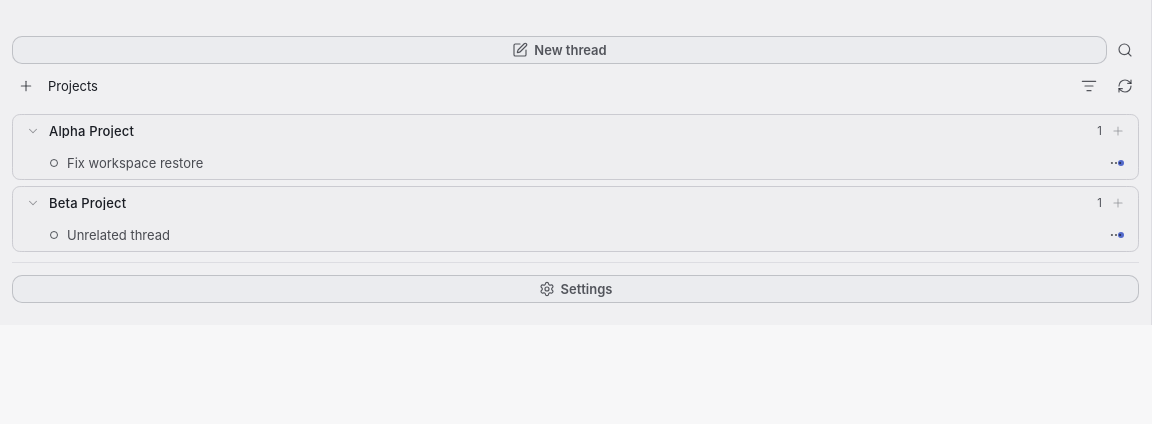
Test: Sidebar › keeps a project visible when its thread matches the search query
Click the button named "Toggle search".
click(1125, 50)  # box left=1111, top=36, right=1139, bottom=64
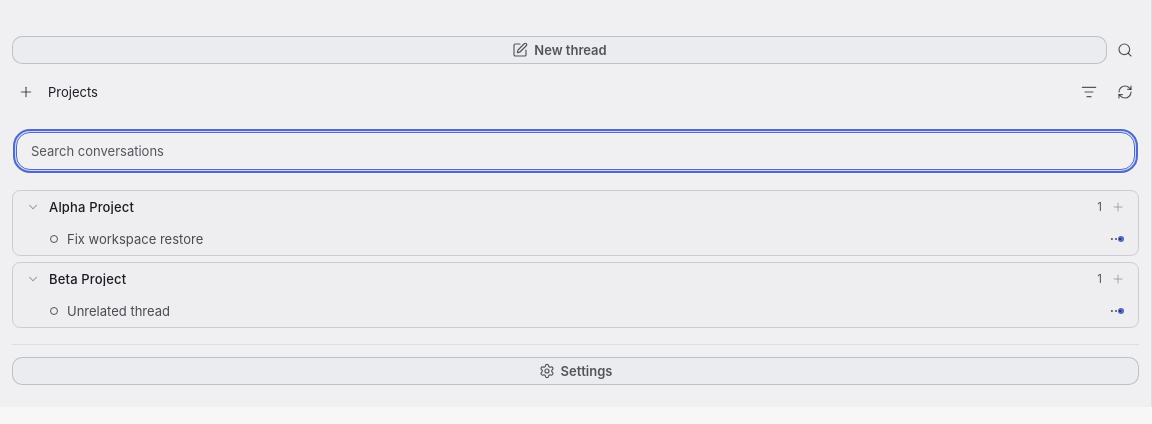
Type "restore" into the field labelled "Search conversations".
click(576, 151); type("restore")  # box left=16, top=132, right=1135, bottom=170
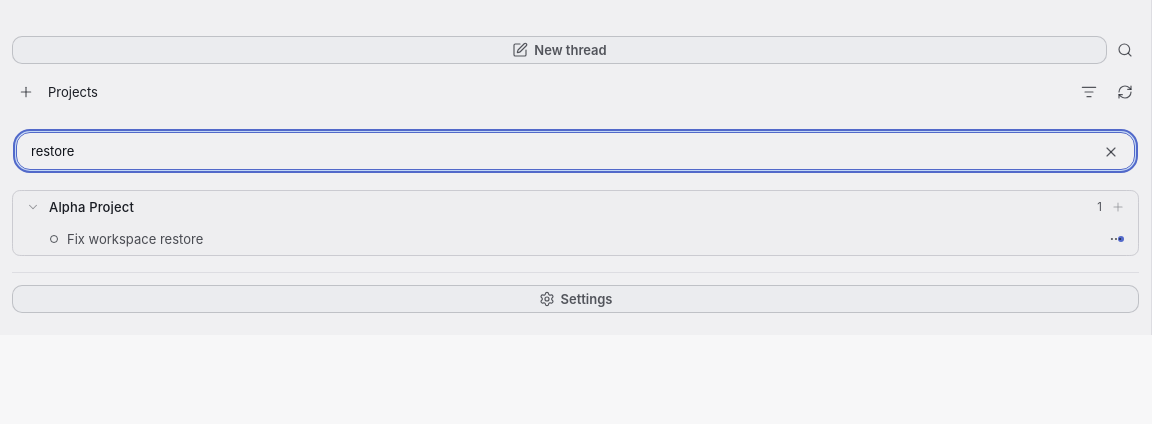
Expected: the text "Alpha Project" is shown, left=49, top=200, right=134, bottom=214
Now the button "Beta Project" is gone
Now the button "Unrelated thread" is gone
